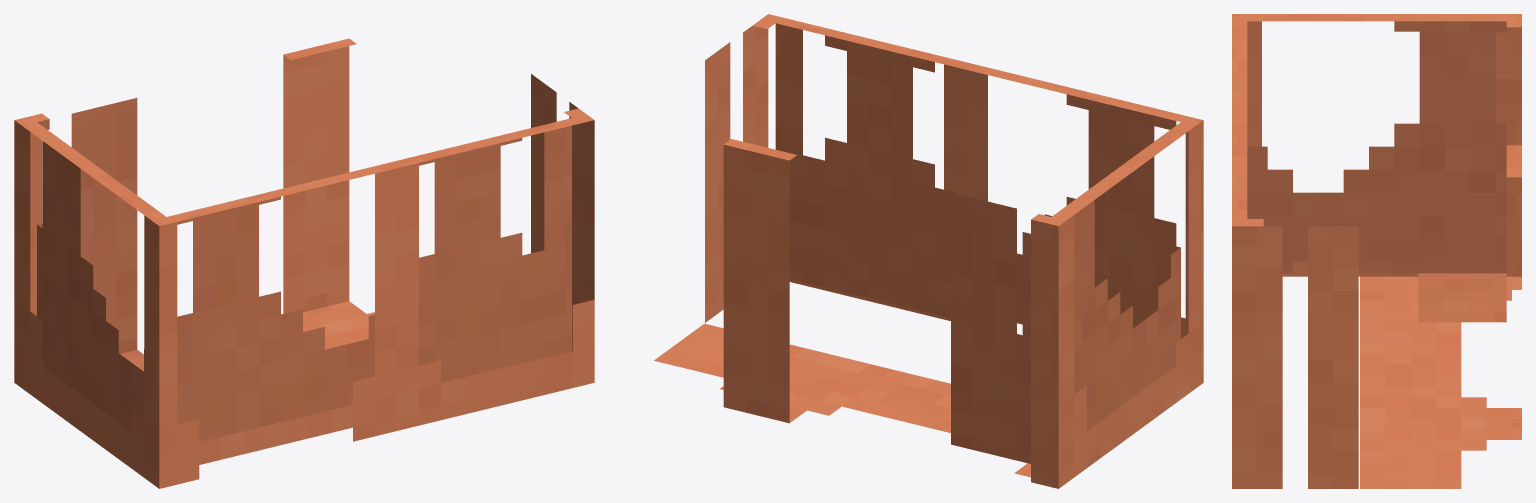
The model's file is bottleCrate.fbx.
3 renders of one model, left to right at view 1: azimuth 30°, elevation 25°; view 2: azimuth 150°, elevation 25°; view 3: azimuth 270°, elevation 25°, orthographic.
Parts seen in each view (by area): view 1: bottleCrafte; view 2: bottleCrafte; view 3: bottleCrafte.
Boxes of the visible parts, left/top/right/bottom form: bottleCrafte: left=14, top=38, right=594, bottom=488; bottleCrafte: left=654, top=14, right=1203, bottom=488; bottleCrafte: left=1232, top=14, right=1521, bottom=488.
Size of the model in its own units: 69.33 by 40 by 40.
